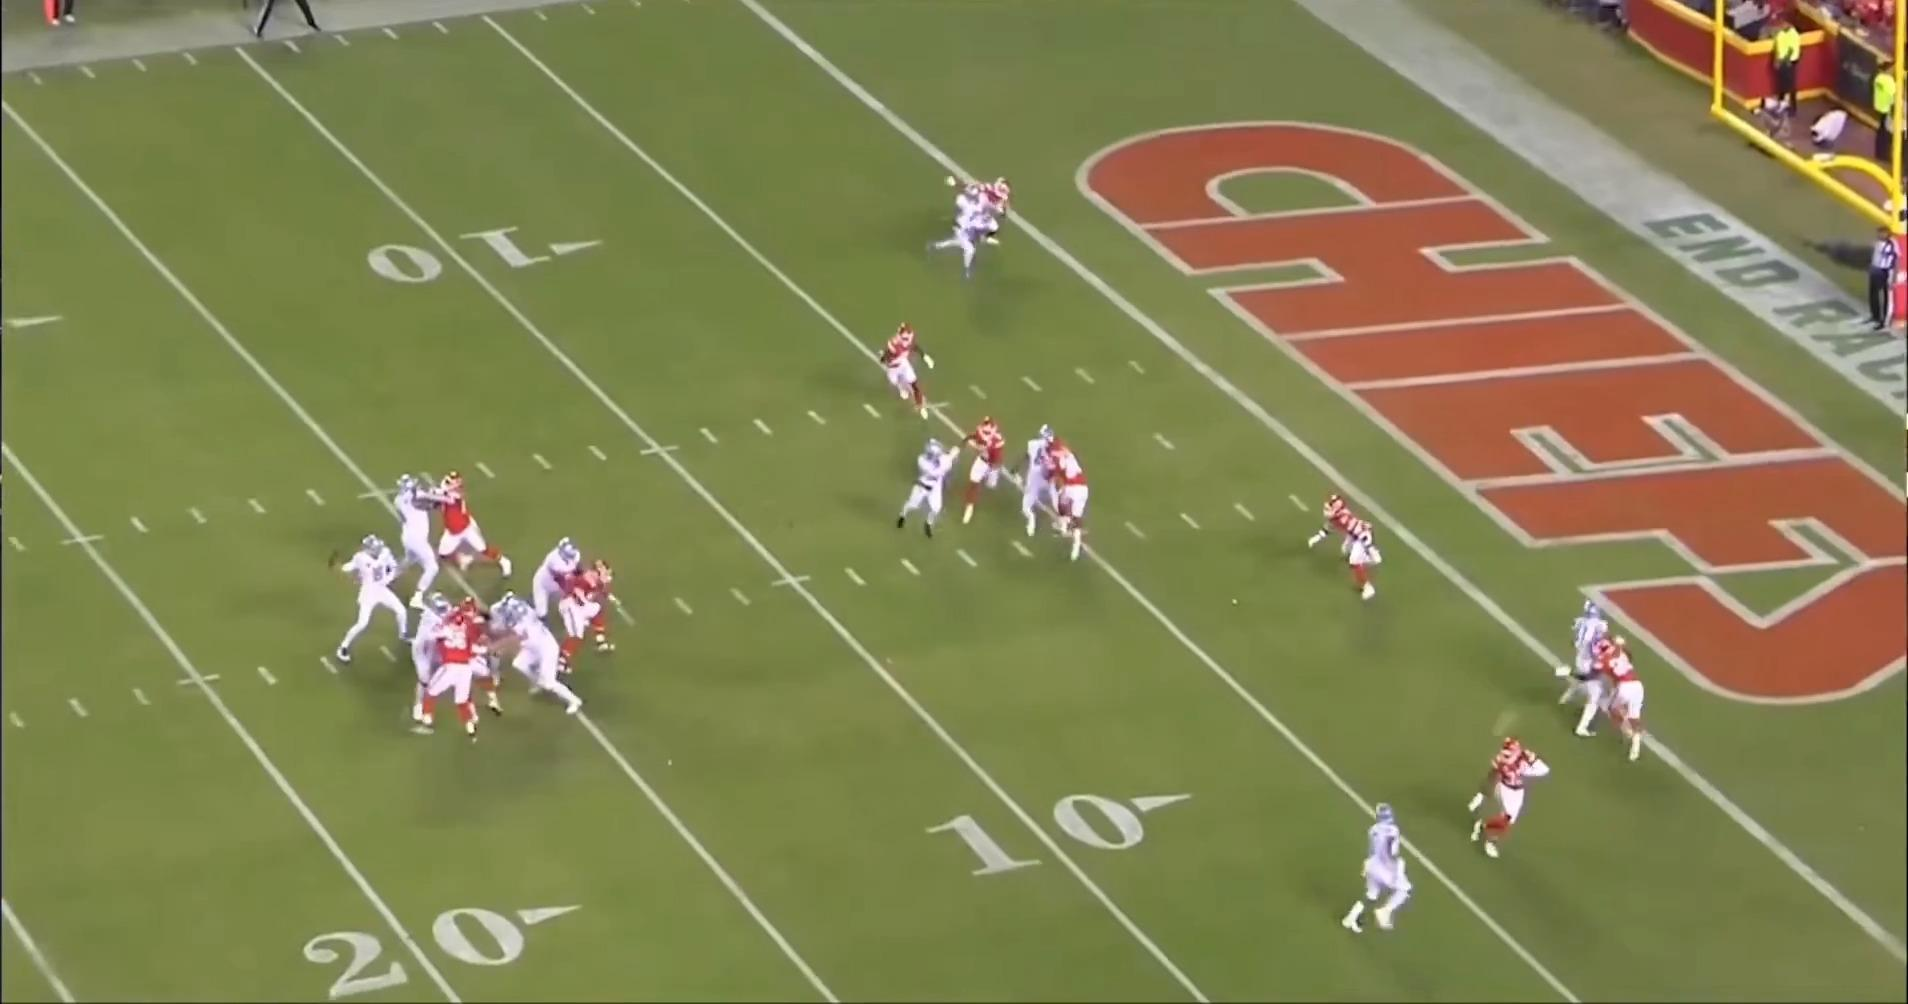defense: (1462, 731, 1554, 860), (406, 610, 487, 741), (422, 467, 509, 579), (1312, 493, 1391, 607), (1575, 629, 1640, 763), (963, 412, 1024, 526), (452, 594, 507, 717), (1041, 436, 1092, 564), (870, 321, 933, 423), (555, 555, 613, 665), (982, 179, 1016, 257)
oline: (494, 595, 586, 725), (387, 466, 442, 601), (403, 590, 454, 731), (536, 532, 589, 625)
qb: (331, 529, 410, 664)
ref: (1857, 214, 1898, 335), (251, 3, 333, 42)
skill: (1342, 805, 1419, 943), (1563, 594, 1622, 734), (900, 439, 971, 544), (930, 185, 1003, 284), (1016, 422, 1068, 542)
